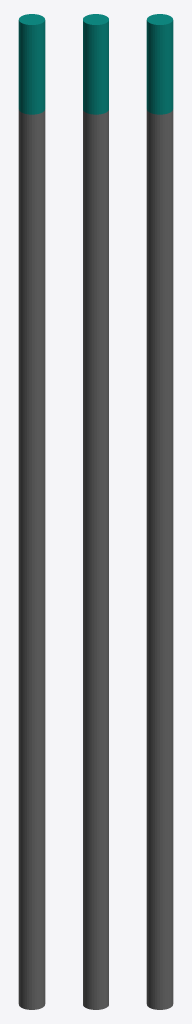
File: Updated008F86.glb
The picture shows the model from 3 angles, left to right: view 1: azimuth 90°, elevation 25°; view 2: azimuth 150°, elevation 25°; view 3: azimuth 270°, elevation 25°; orthographic projection.
Parts seen in each view (by area): view 1: Long_Electrode_Body, Long_Electrode_Tip; view 2: Long_Electrode_Body, Long_Electrode_Tip; view 3: Long_Electrode_Body, Long_Electrode_Tip.
Part boxes in pixels (left/top/right/bottom): Long_Electrode_Body: left=18, top=109, right=45, bottom=1009; Long_Electrode_Tip: left=18, top=14, right=45, bottom=114; Long_Electrode_Body: left=83, top=110, right=108, bottom=1009; Long_Electrode_Tip: left=83, top=14, right=108, bottom=114; Long_Electrode_Body: left=146, top=109, right=173, bottom=1009; Long_Electrode_Tip: left=146, top=14, right=173, bottom=114.
Bounding box in the file's own units: 0.4 × 16.5 × 0.4.
